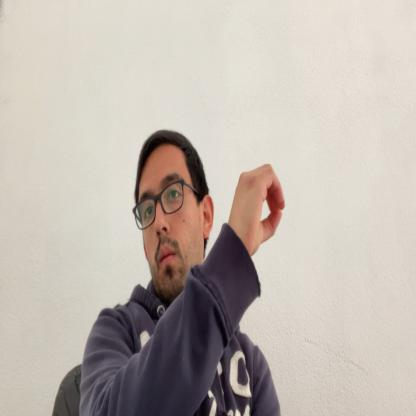O: (232, 162, 286, 254)
